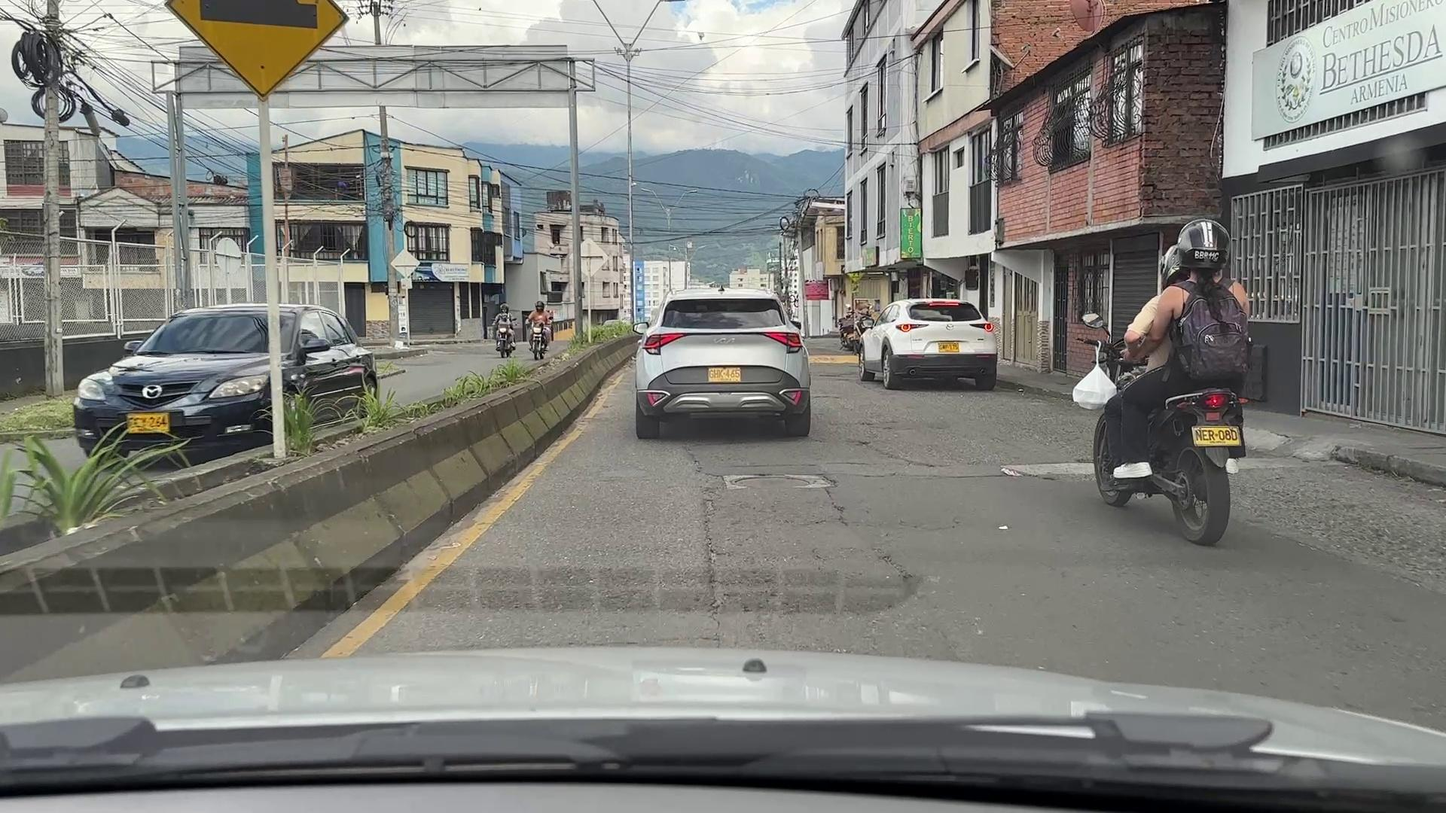bache: (935, 467, 1036, 478)
registro: (736, 477, 809, 488)
